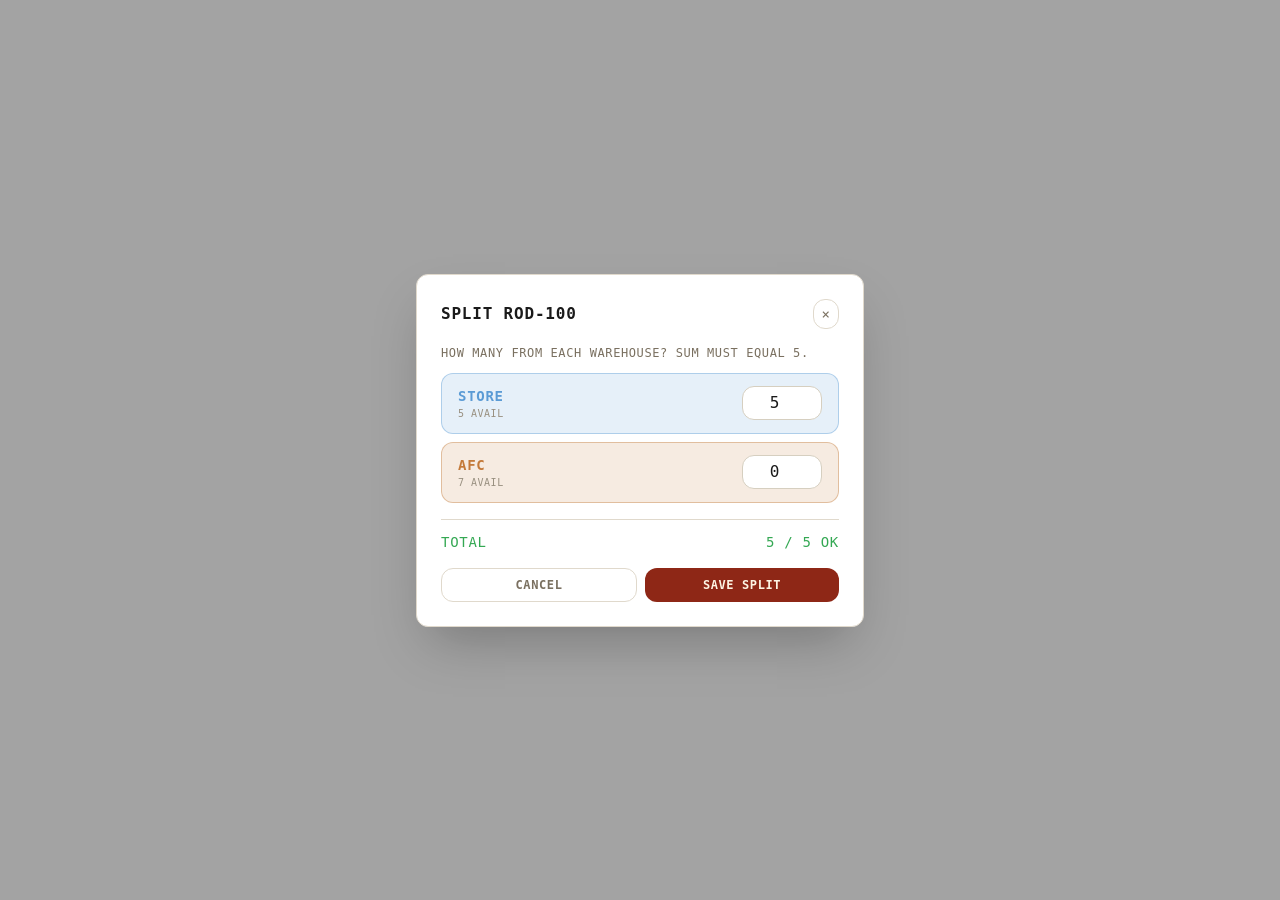
Test case: <SplitLineModal> › disables Save until total equals the target qty
Replace the text in the number field named "quantity from store" with "3" at point(782, 403), box [742,386,822,420]
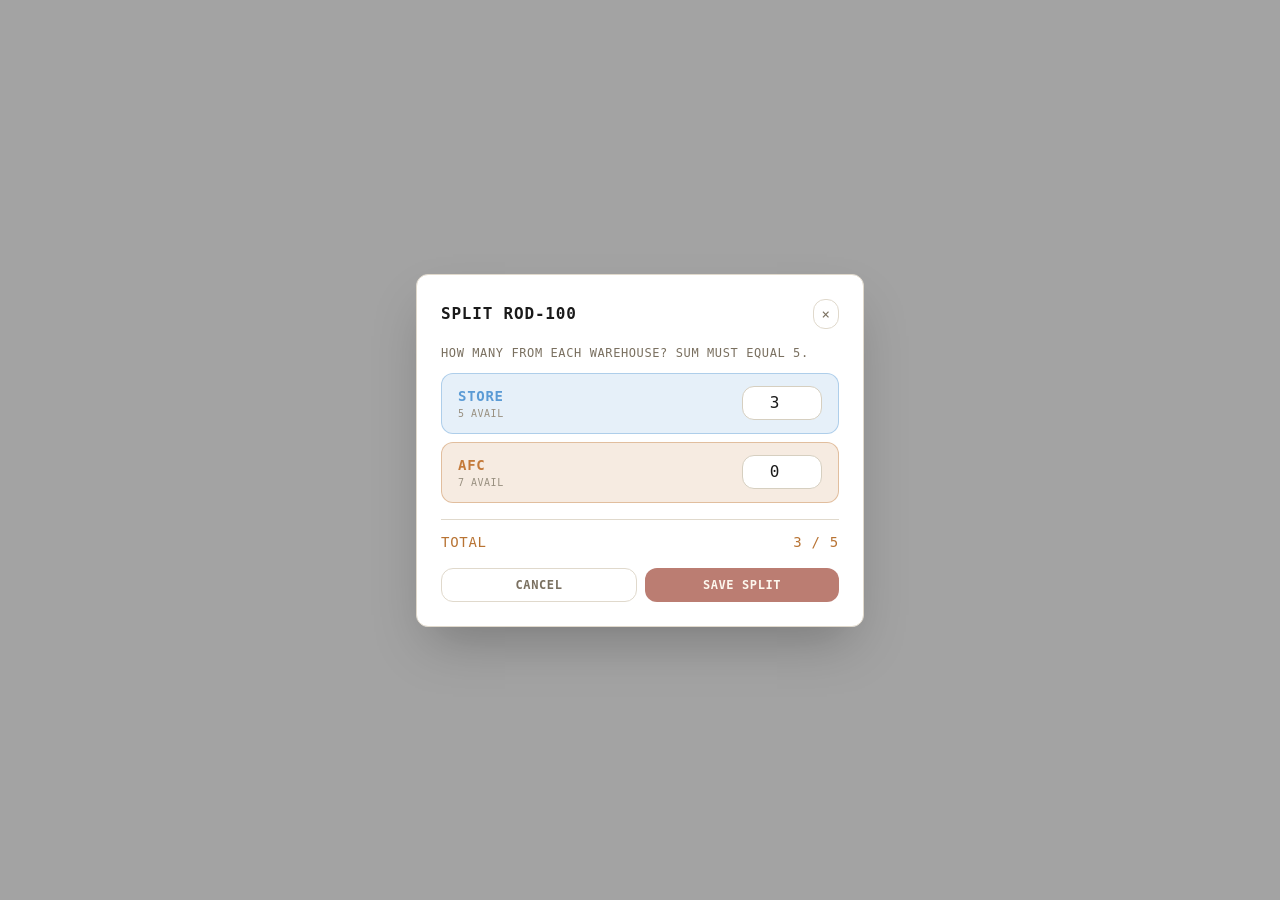
Result: the button "Save split" is disabled at [645,568,839,602]
Result: the element with test id "split-total" shows "3 / 5" at [441,518,839,552]
Replace the text in the number field named "quantity from afc" with "2" at point(782, 472), box [742,455,822,489]
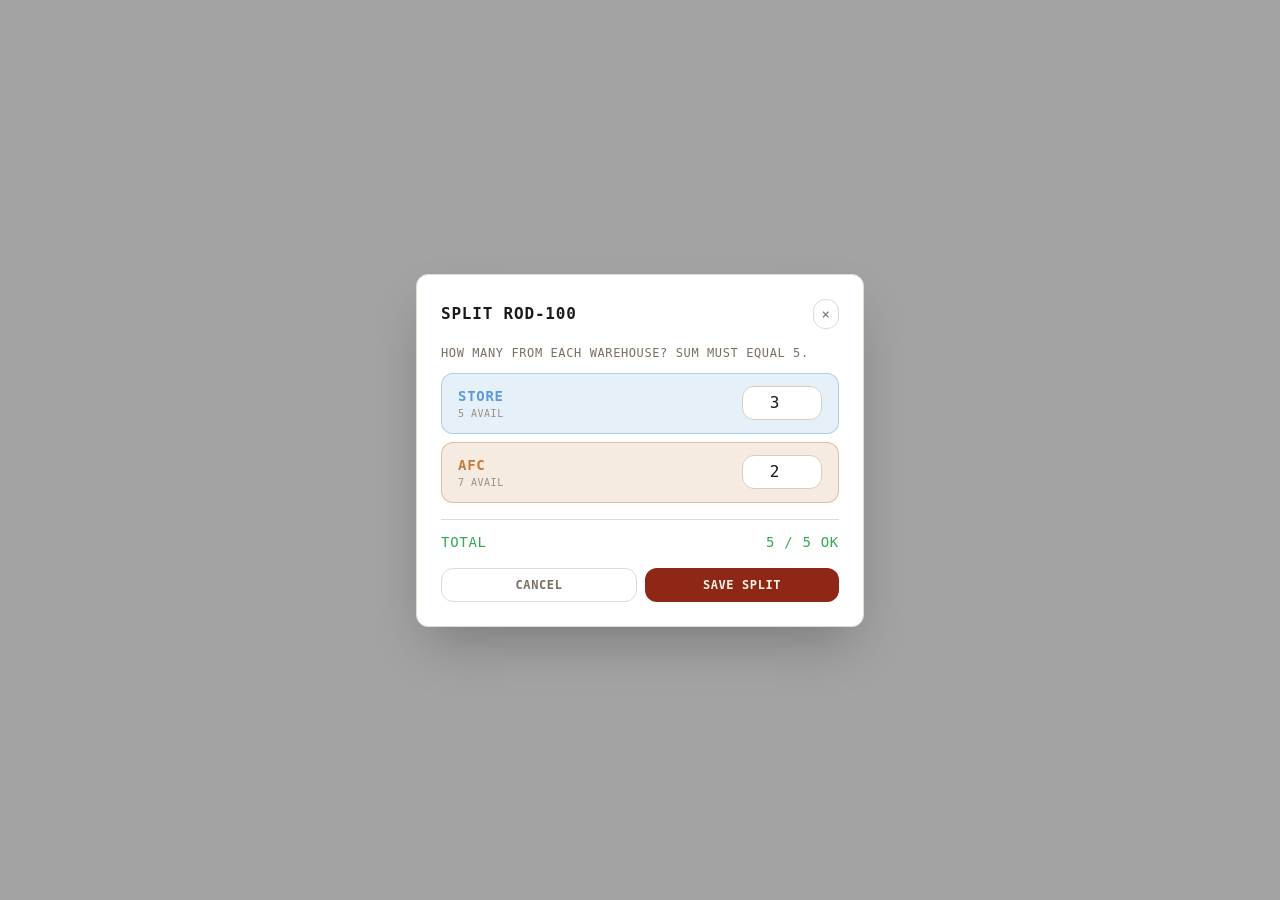
Result: the button "Save split" is enabled at [645,568,839,602]
Result: the element with test id "split-total" shows "5 / 5" at [441,518,839,552]
